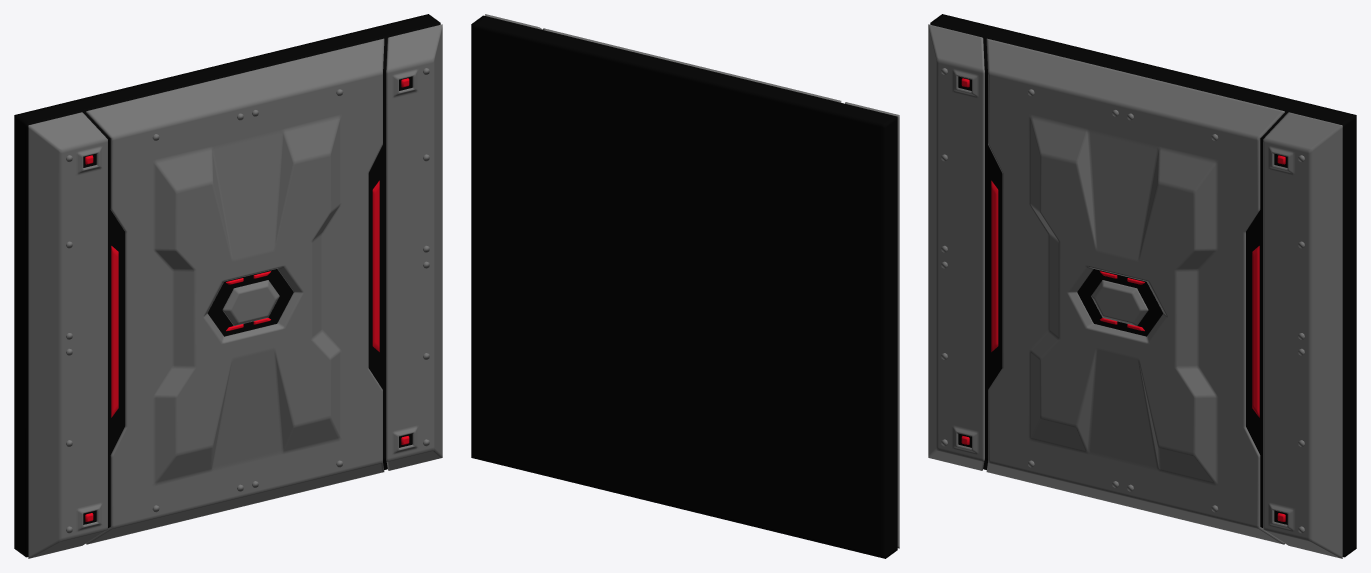
The model's file is sifi2.4.fbx.
The picture shows the model from 3 angles, left to right: view 1: azimuth 30°, elevation 25°; view 2: azimuth 150°, elevation 25°; view 3: azimuth 330°, elevation 25°; orthographic projection.
Parts seen in each view (by area): view 1: SciFi_Panel_001; view 2: SciFi_Panel_001; view 3: SciFi_Panel_001.
Boxes of the visible parts, bbox=[...] form: SciFi_Panel_001: bbox=[14, 14, 442, 558]; SciFi_Panel_001: bbox=[471, 14, 899, 558]; SciFi_Panel_001: bbox=[928, 14, 1356, 558].
Size of the model in its own units: 200 by 200 by 26.73.
